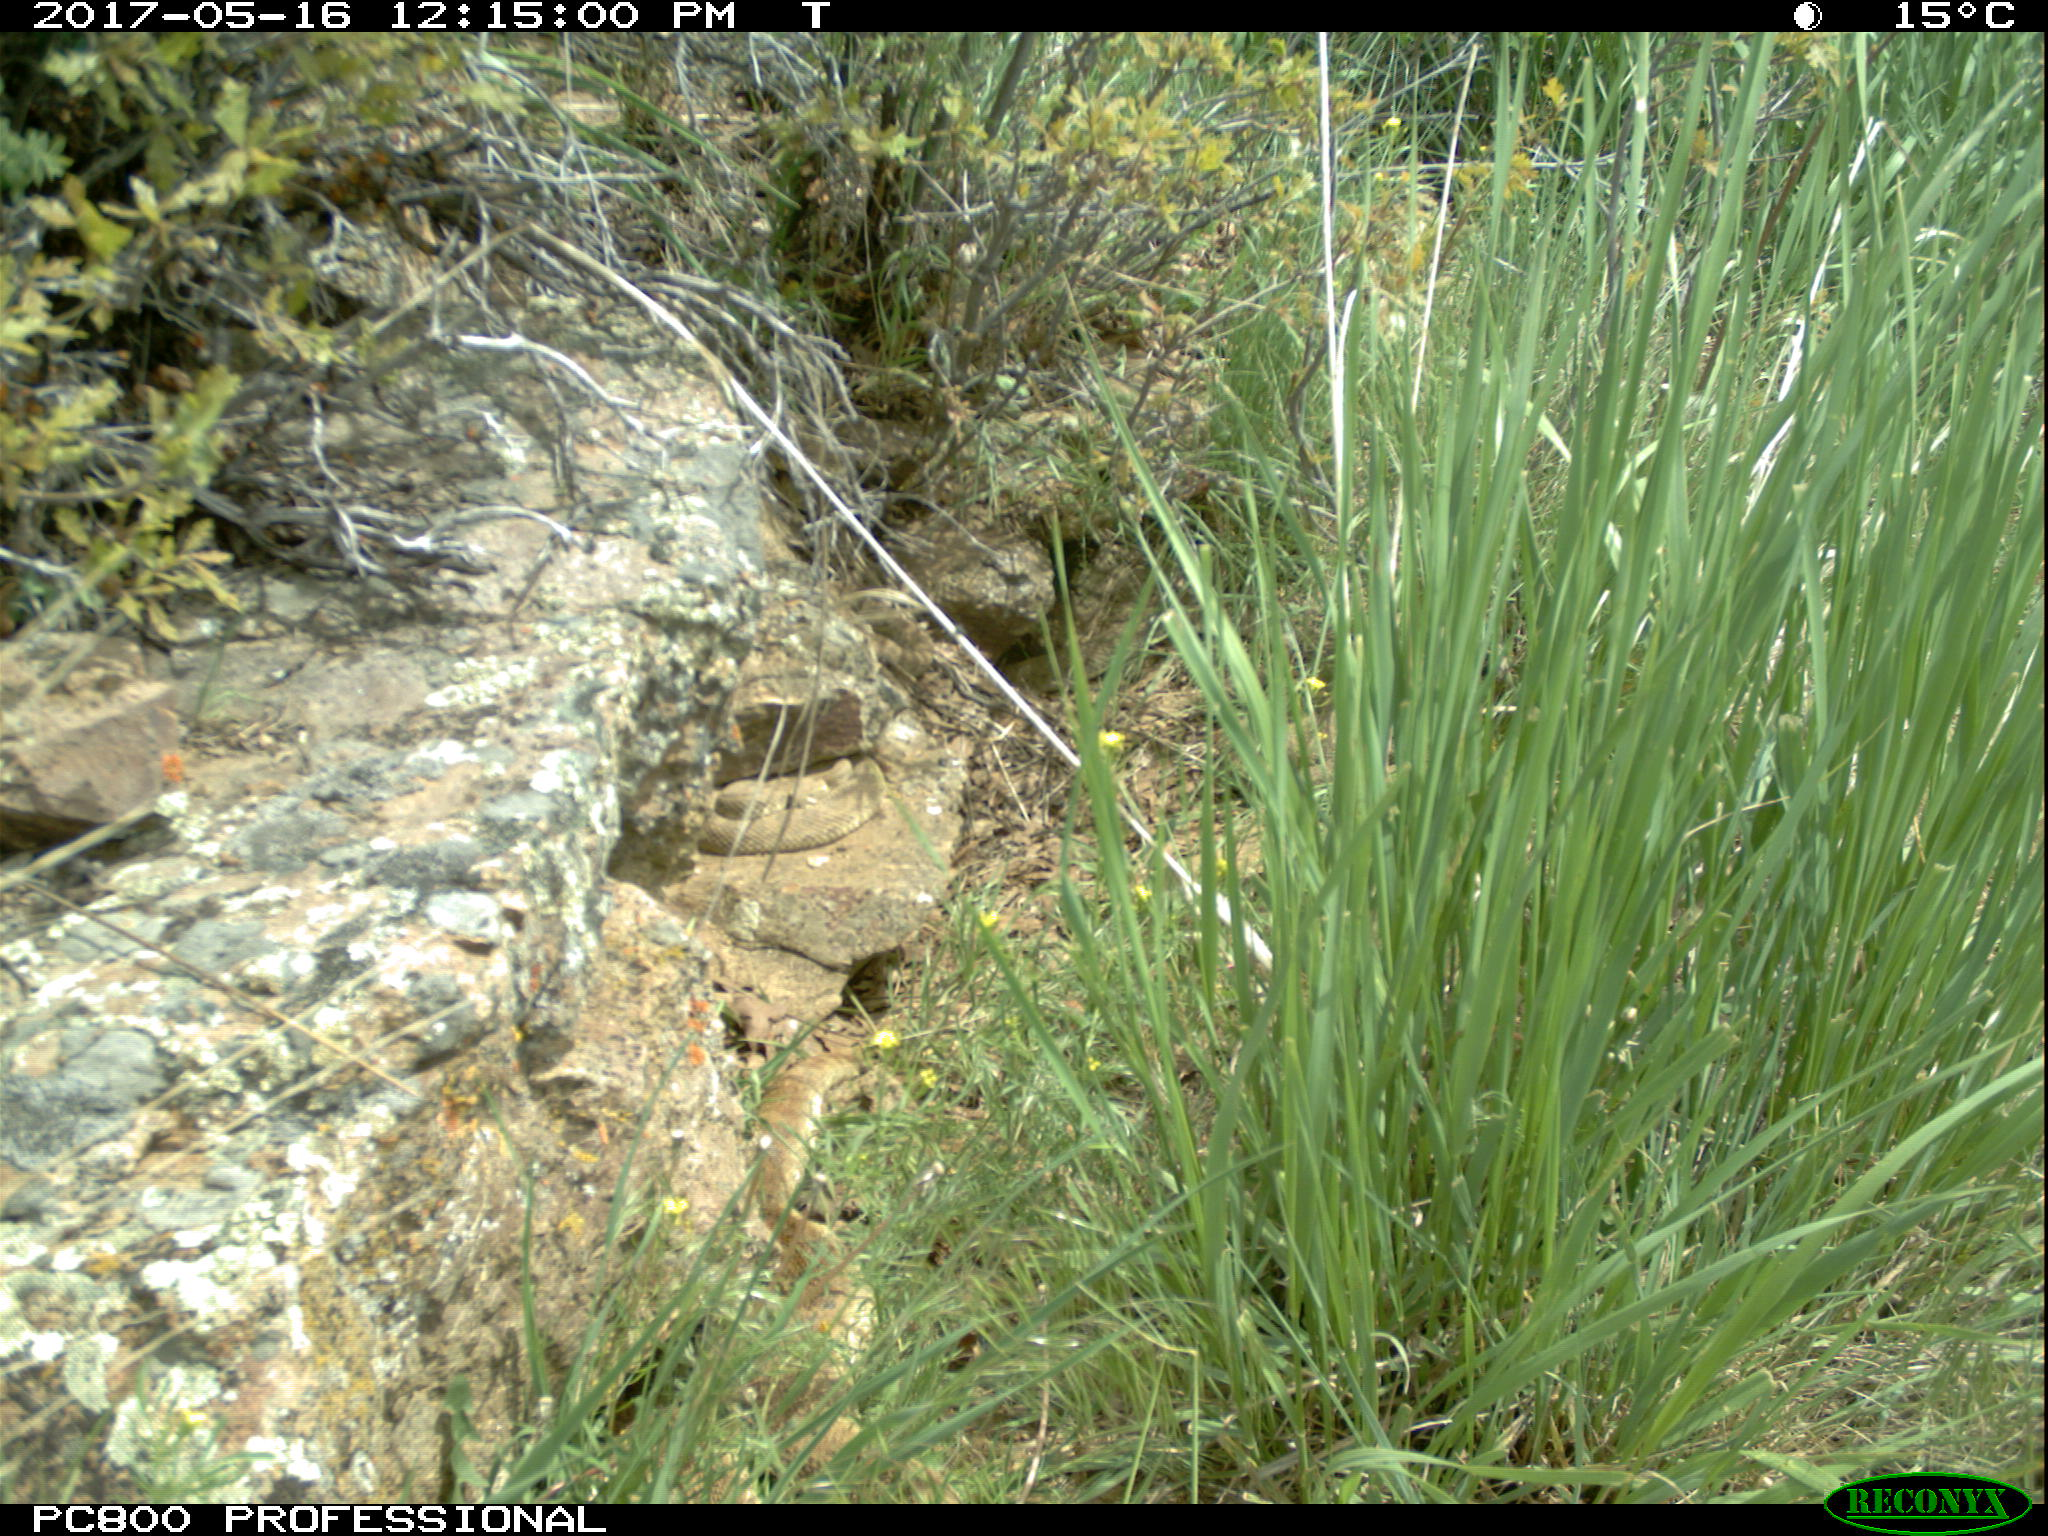snake: (748, 1052, 871, 1459), (693, 753, 887, 862)
